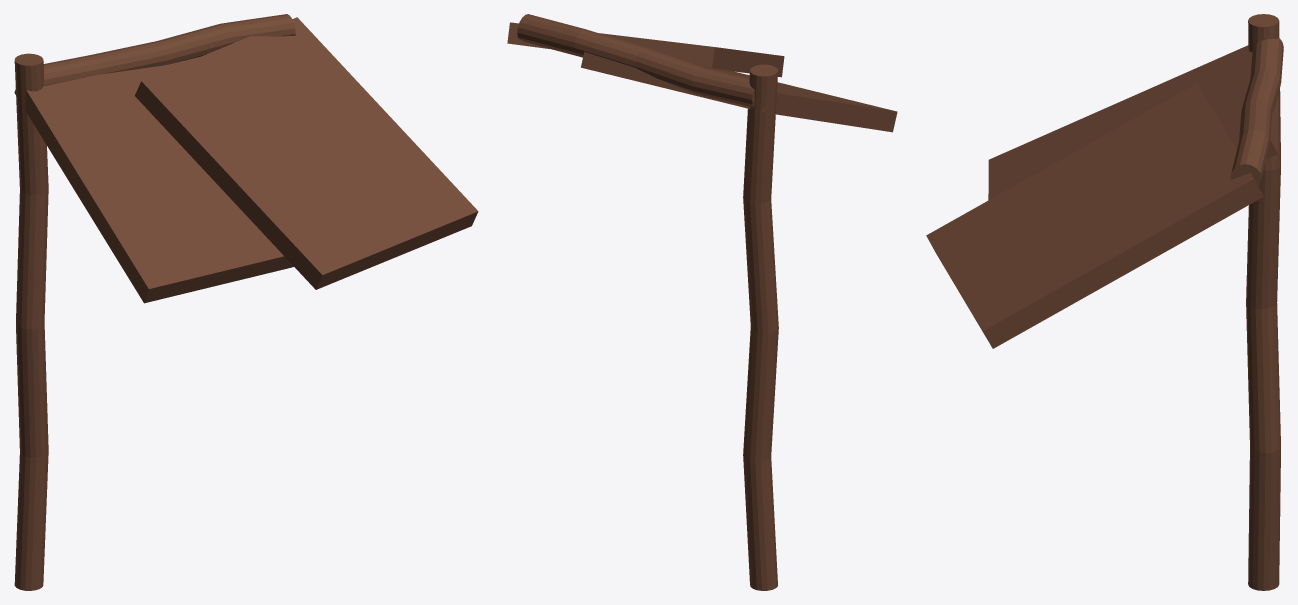
The model's file is SM_A_WoodBuildingKit_01.fbx.
3 renders of one model, left to right at view 1: azimuth 30°, elevation 25°; view 2: azimuth 150°, elevation 25°; view 3: azimuth 270°, elevation 25°, orthographic. The views are drawn at different scales.
Visible parts, largest first — view 1: SM_A_WoodenBeam_Tall_01.004; view 2: SM_A_WoodenBeam_Tall_01.004; view 3: SM_A_WoodenBeam_Tall_01.004.
Part boxes in pixels (x1=…): SM_A_WoodenBeam_Tall_01.004: x1=14, y1=14, x2=478, y2=590; SM_A_WoodenBeam_Tall_01.004: x1=507, y1=14, x2=897, y2=590; SM_A_WoodenBeam_Tall_01.004: x1=926, y1=14, x2=1283, y2=590.
Size of the model in its own units: 264 by 230 by 400.
